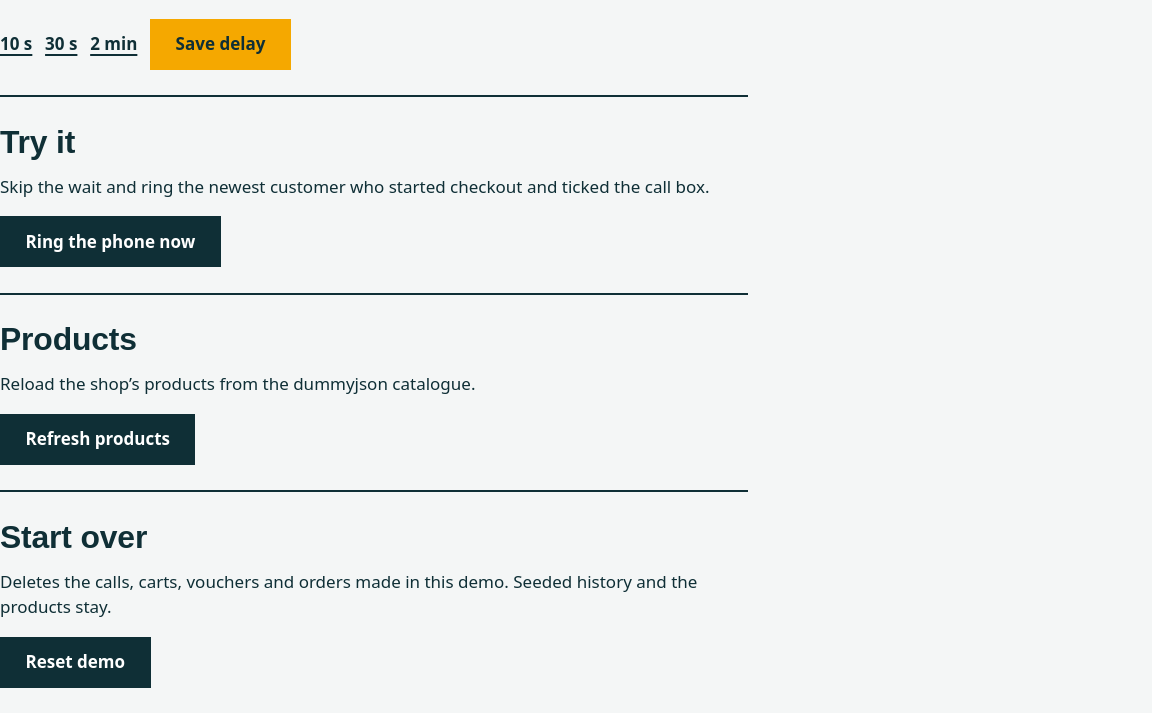
Test case: DemoControls › asks before resetting, and deletes nothing if the presenter backs out
The width and height of the screenshot is (1152, 713).
(page scrolled)
Click the button "Reset demo".
click(75, 662)  # box [0, 637, 151, 688]
(page scrolled)
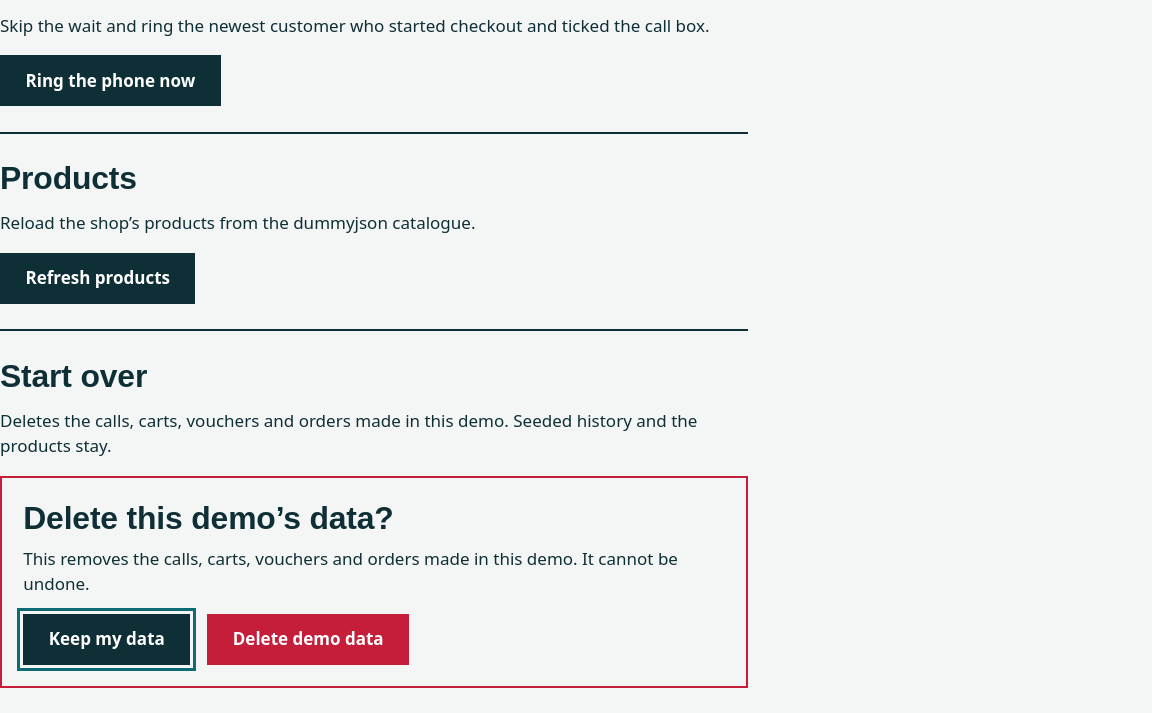
Result: the dialog shows "calls, carts, vouchers and orders made in this demo" at [23, 547, 678, 595]
Click the button "Keep my data".
click(107, 639)  # box [23, 614, 190, 665]
(page scrolled)
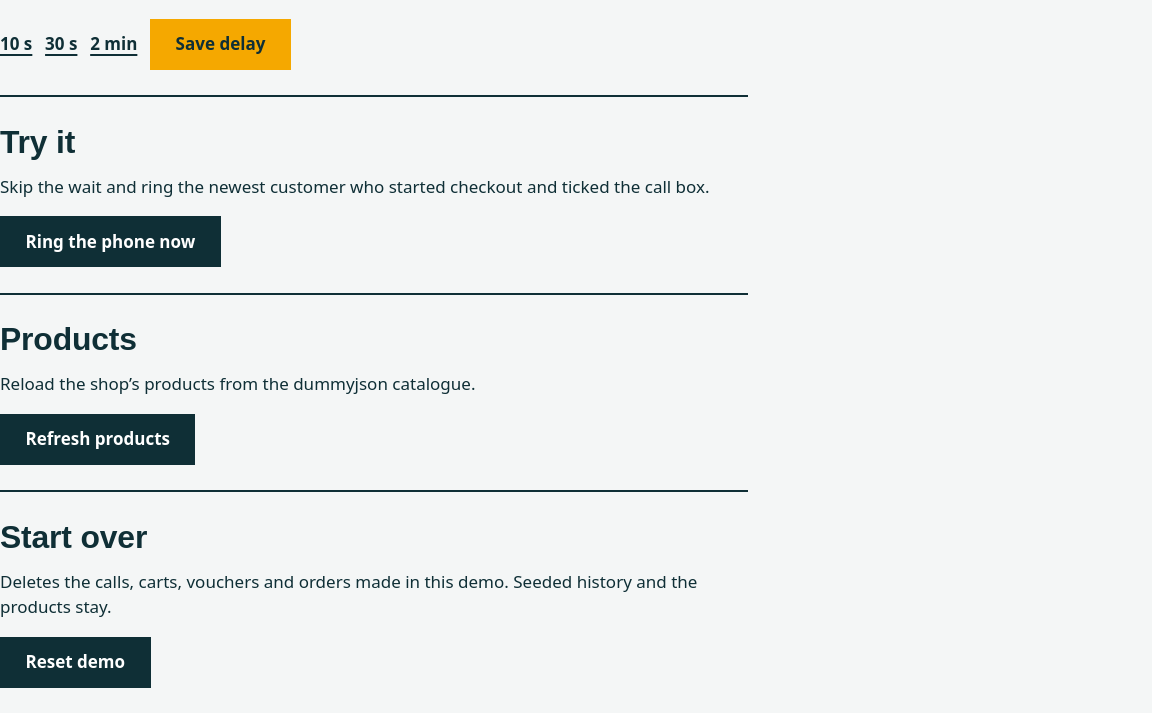
Result: the dialog is gone
